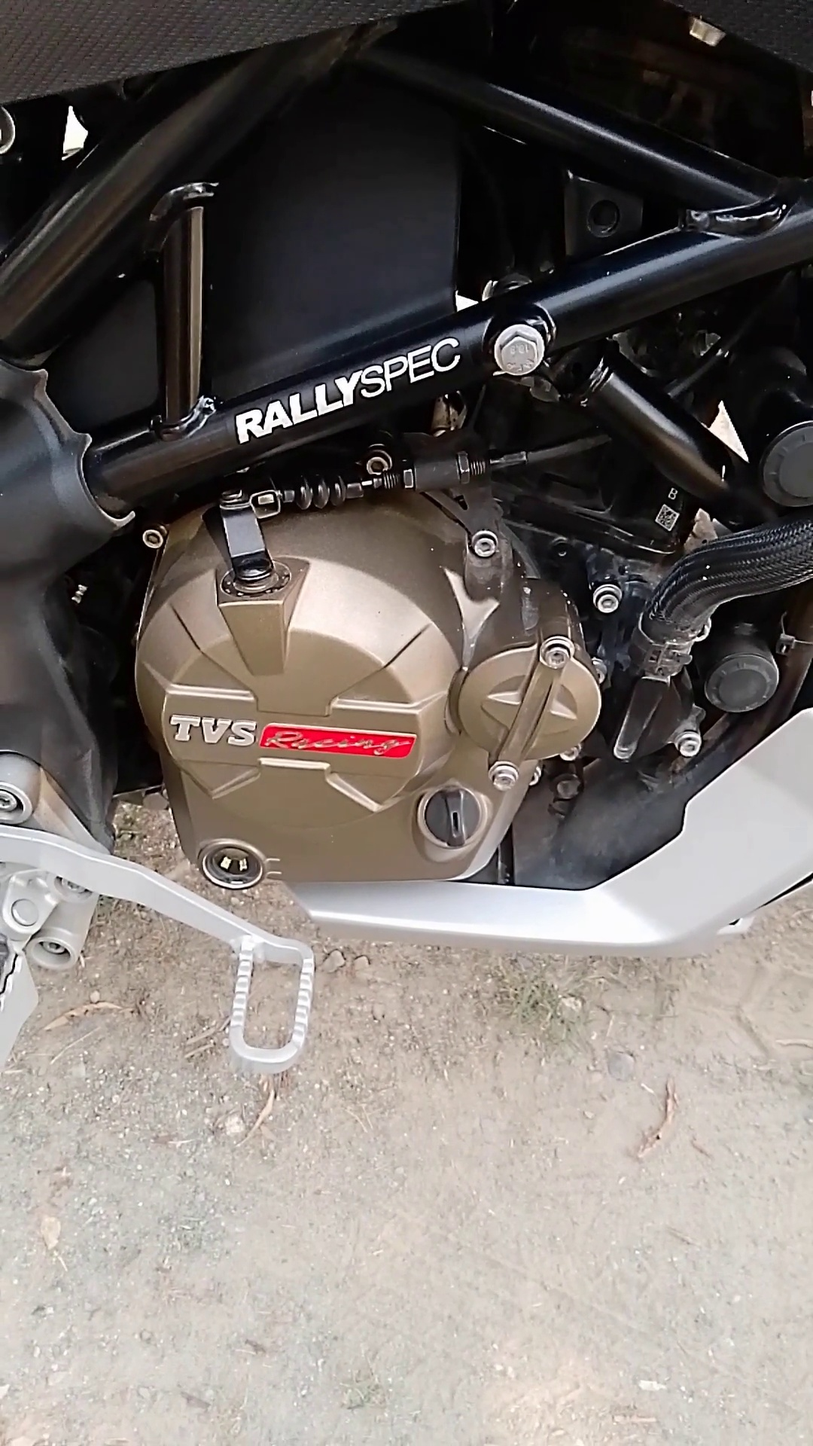bike-engine: (126, 482, 607, 896)
bike-engine-level: (199, 838, 273, 904)
bike-oil-cap: (408, 774, 490, 847)
